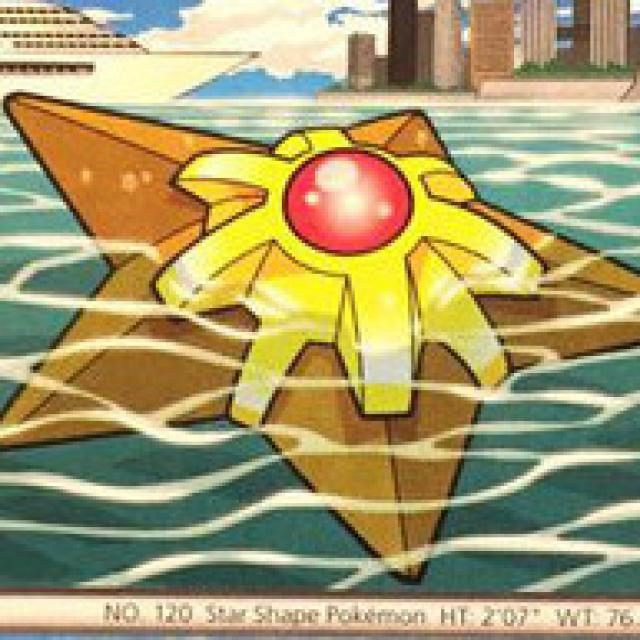Staryu: (1, 109, 640, 569)
